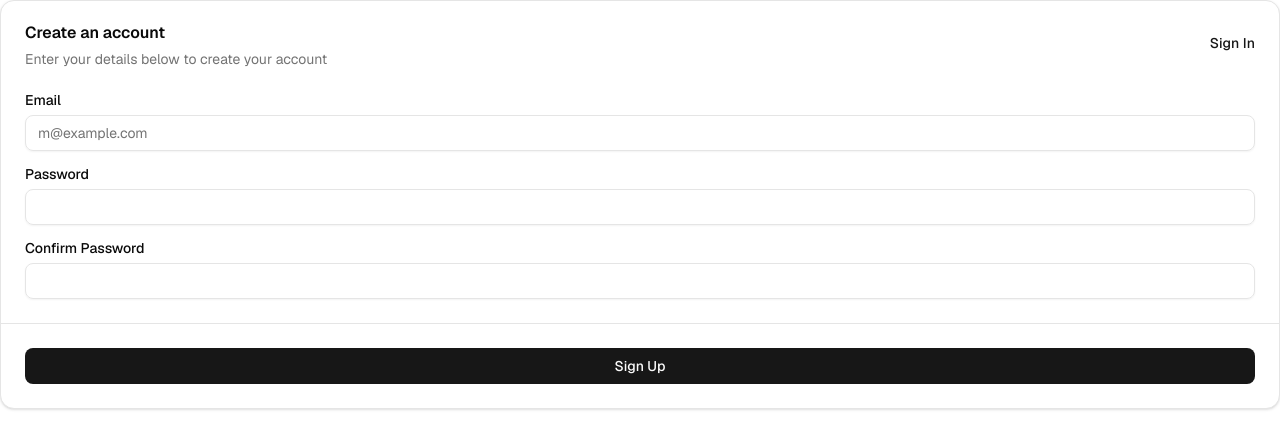
Test: SignUpForm › disables submit button while pending
Type "u@example.com" into the field labelled "Email". click: (640, 133)
box: [25,115,1255,151]
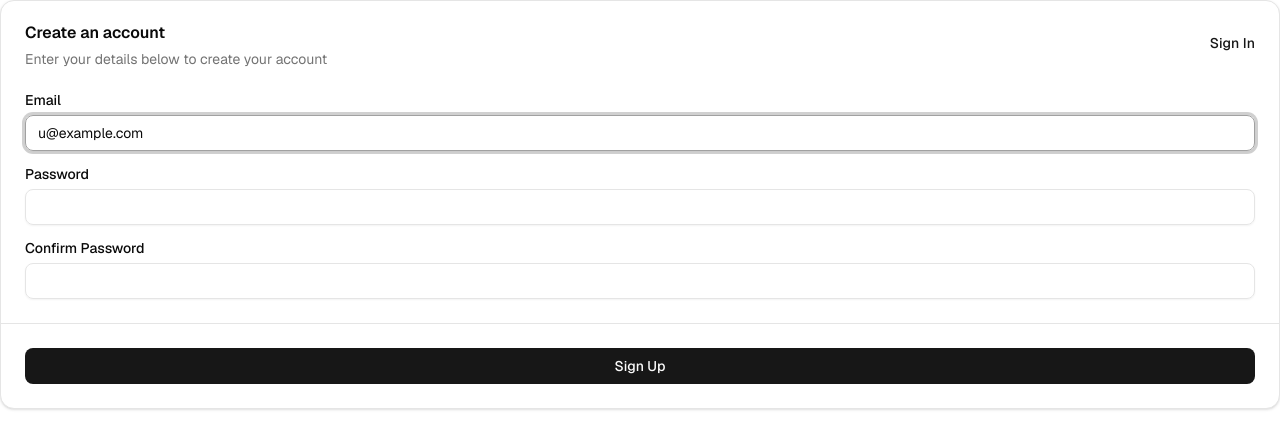
Type "pass12345" into the password field labelled "Password". click: (640, 207)
box: [25,189,1255,225]
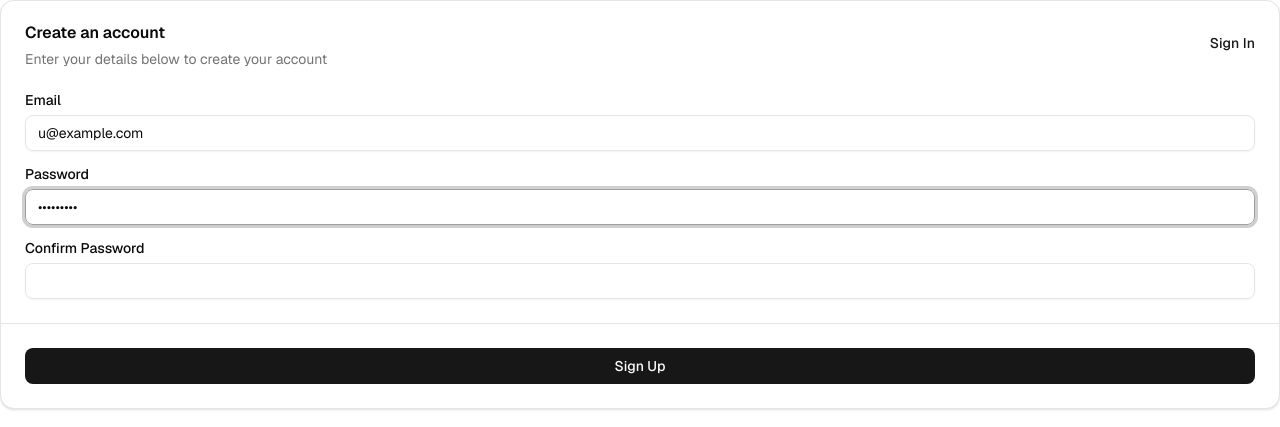
Type "pass12345" into the password field labelled "Confirm Password". click: (640, 281)
box: [25,263,1255,299]
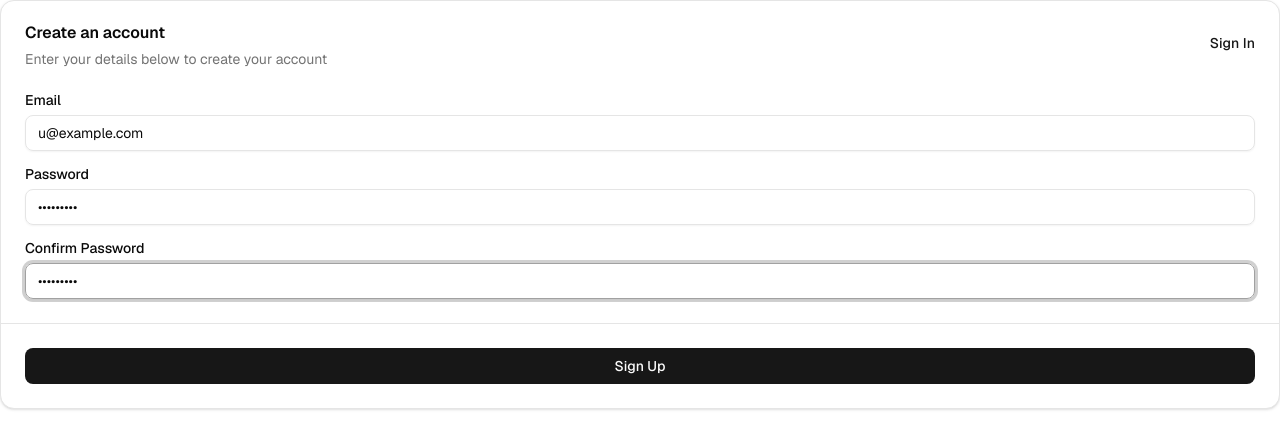
Click the button "Sign Up". click: (640, 366)
box: [25,348,1255,384]
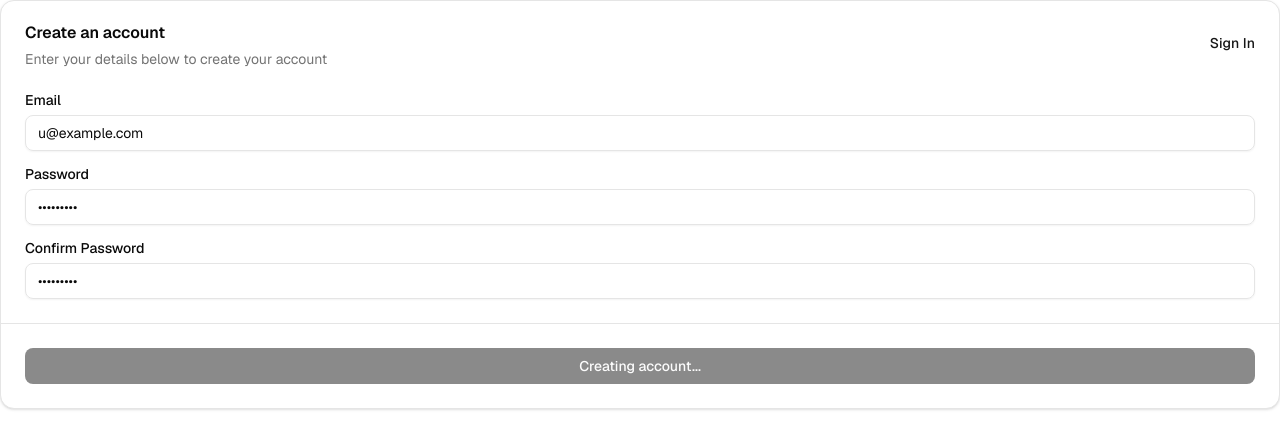
Check: the button named "sign up" is disabled, box [25,348,1255,384]
Check: the button named "sign up" shows "Creating account", box [25,348,1255,384]
